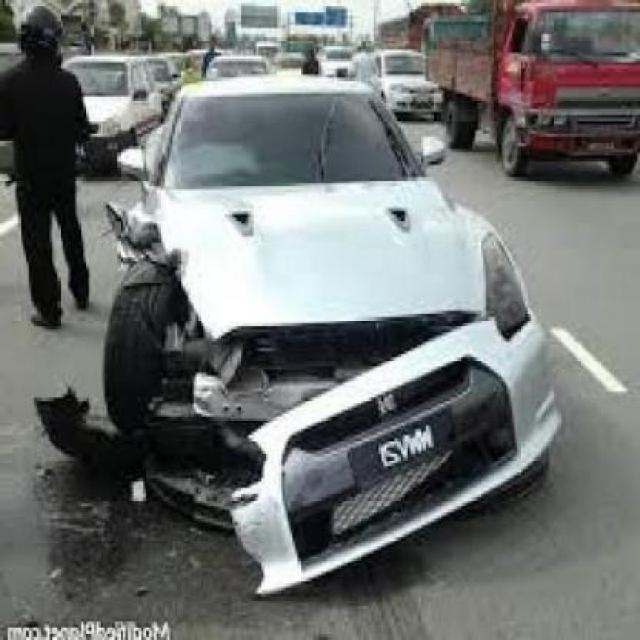damage: (101, 199, 520, 604)
